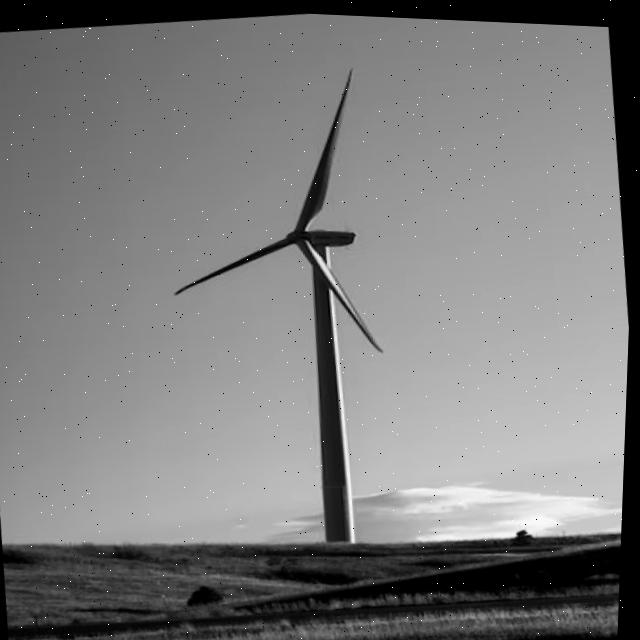solid-blade: (297, 235, 386, 347), (294, 67, 351, 229), (172, 235, 295, 295)
wind-turbine: (178, 67, 386, 537)
